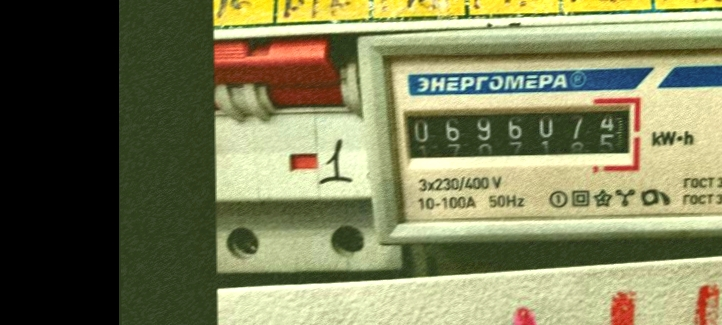0: (412, 116, 431, 142), (538, 112, 555, 138)
4: (600, 110, 615, 131)
5: (601, 132, 615, 151)
6: (443, 115, 462, 140), (507, 112, 524, 139)
7: (569, 112, 586, 139)
9: (475, 115, 493, 141)
screen: (398, 94, 645, 174)
